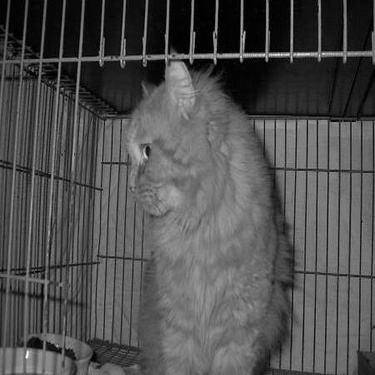cat: (113, 45, 306, 367)
